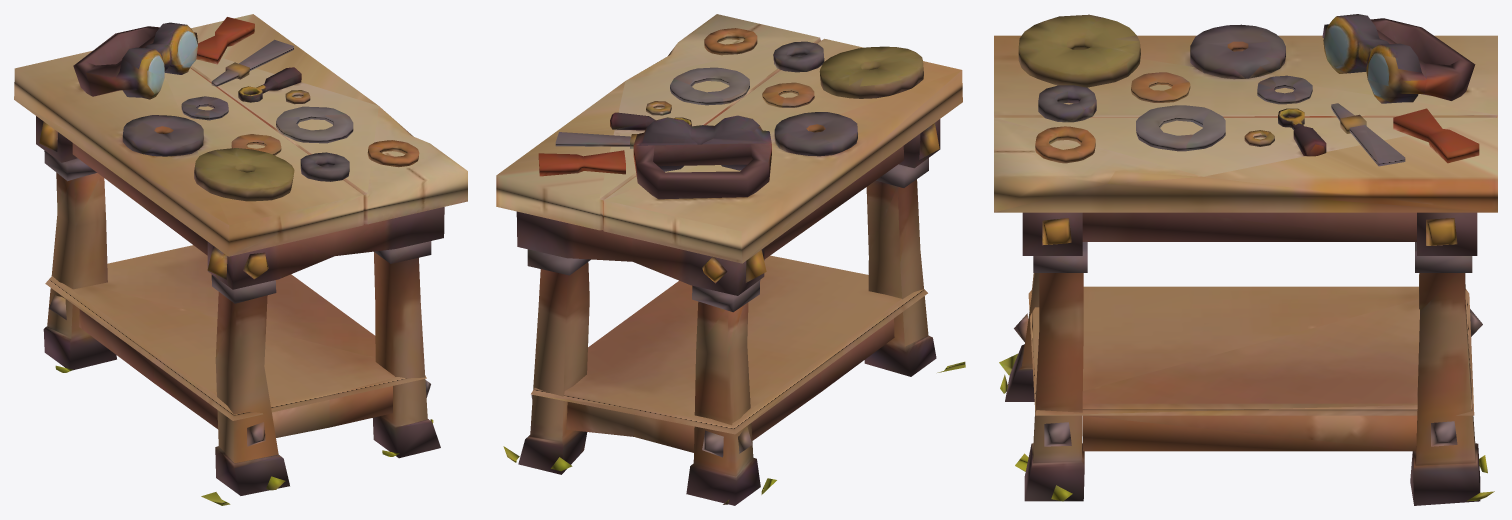
File: engineering_workbench.glb
The picture shows the model from 3 angles, left to right: view 1: azimuth 30°, elevation 25°; view 2: azimuth 150°, elevation 25°; view 3: azimuth 270°, elevation 25°; orthographic projection. The views are drawn at different scales.
Parts seen in each view (by area): view 1: tripo_node_624fcf7f-452d-4077-8ab5-61b120c3b2af; view 2: tripo_node_624fcf7f-452d-4077-8ab5-61b120c3b2af; view 3: tripo_node_624fcf7f-452d-4077-8ab5-61b120c3b2af.
Boxes of the visible parts, box(x1,y1,x2,y2) form: tripo_node_624fcf7f-452d-4077-8ab5-61b120c3b2af: box(14, 14, 467, 505); tripo_node_624fcf7f-452d-4077-8ab5-61b120c3b2af: box(496, 14, 965, 505); tripo_node_624fcf7f-452d-4077-8ab5-61b120c3b2af: box(994, 14, 1497, 505).
Size of the model in its own units: 0.7959 by 1 by 1.16.
1 material, 1 textured.
